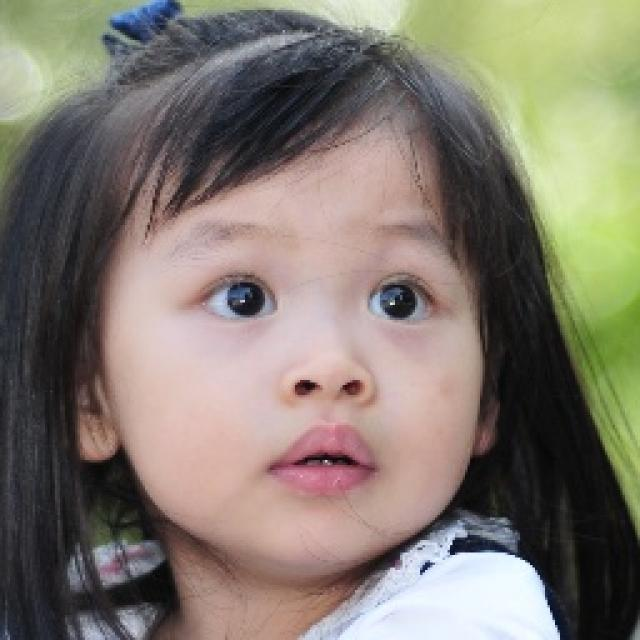earlobe: (76, 418, 121, 467), (470, 408, 503, 458)
eye: (193, 276, 283, 323), (364, 273, 436, 329)
nose: (289, 384, 379, 422)
wholeear: (67, 318, 121, 466)
